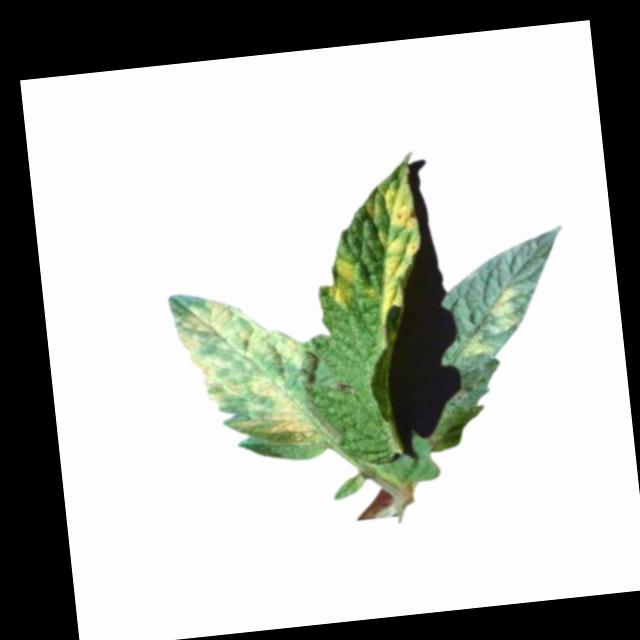Leaf_Mold: (172, 288, 319, 456), (361, 161, 431, 329), (324, 255, 360, 314), (483, 284, 523, 336), (460, 334, 494, 359)
